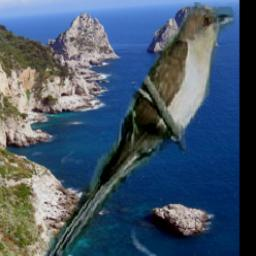Cuckoo: (38, 3, 239, 256)
